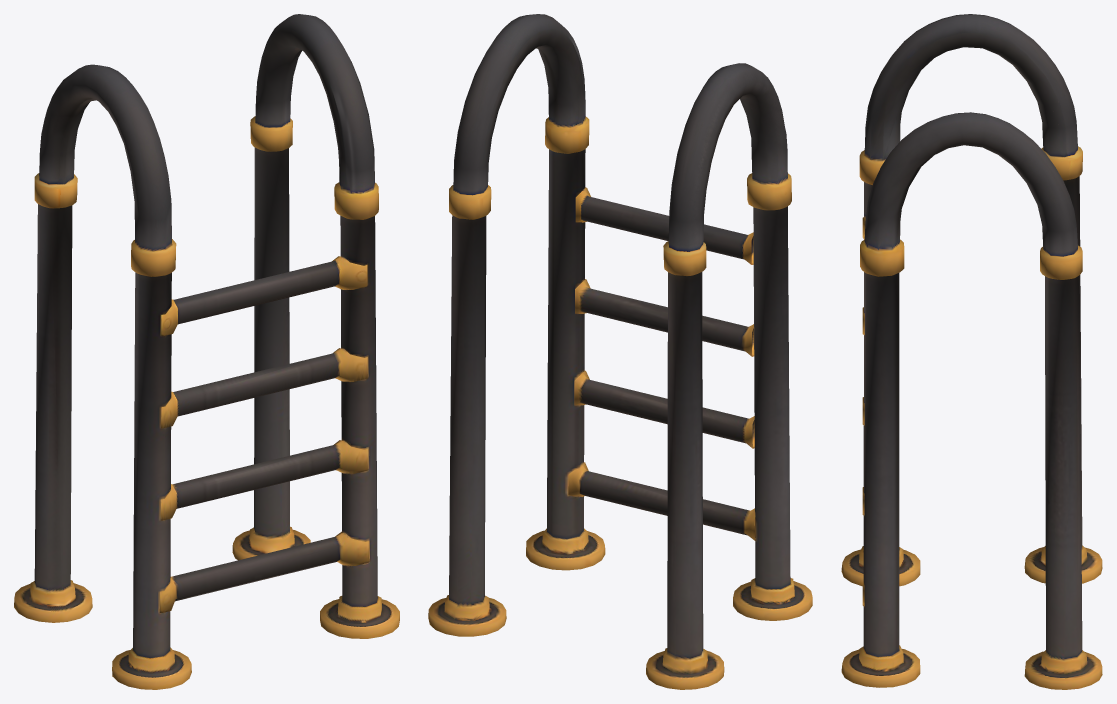
File: Furn_Pool_Ladder.fbx
The picture shows the model from 3 angles, left to right: view 1: azimuth 30°, elevation 25°; view 2: azimuth 150°, elevation 25°; view 3: azimuth 270°, elevation 25°; orthographic projection. The views are drawn at different scales.
Visible parts, largest first — view 1: Furn_Pool_Ladder; view 2: Furn_Pool_Ladder; view 3: Furn_Pool_Ladder.
Boxes of the visible parts, <box> form: Furn_Pool_Ladder: <box>14,14,399,689</box>; Furn_Pool_Ladder: <box>428,14,812,689</box>; Furn_Pool_Ladder: <box>841,14,1102,689</box>.
Bounding box in the file's own units: 0.9488 × 1.8 × 0.7641.
1 material, 1 textured.
